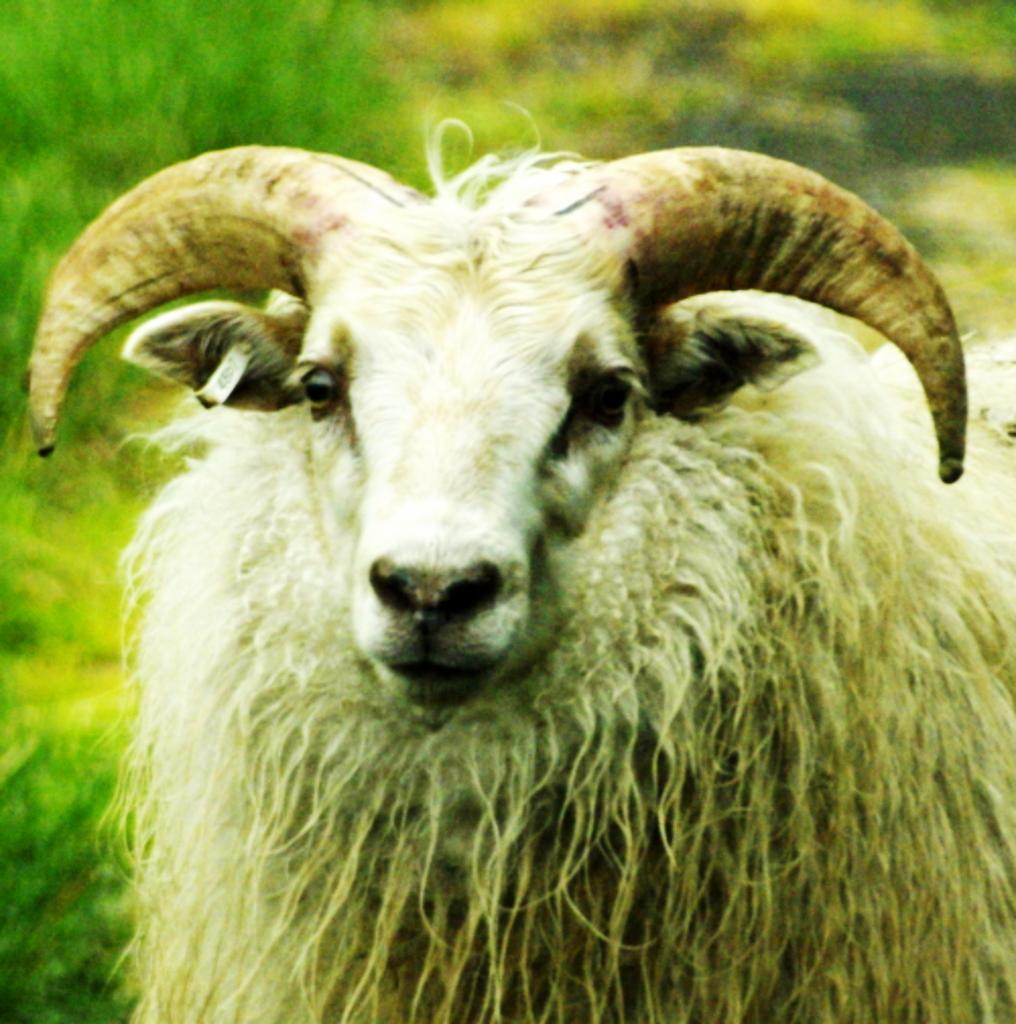Sheep: (22, 137, 1016, 1024)
